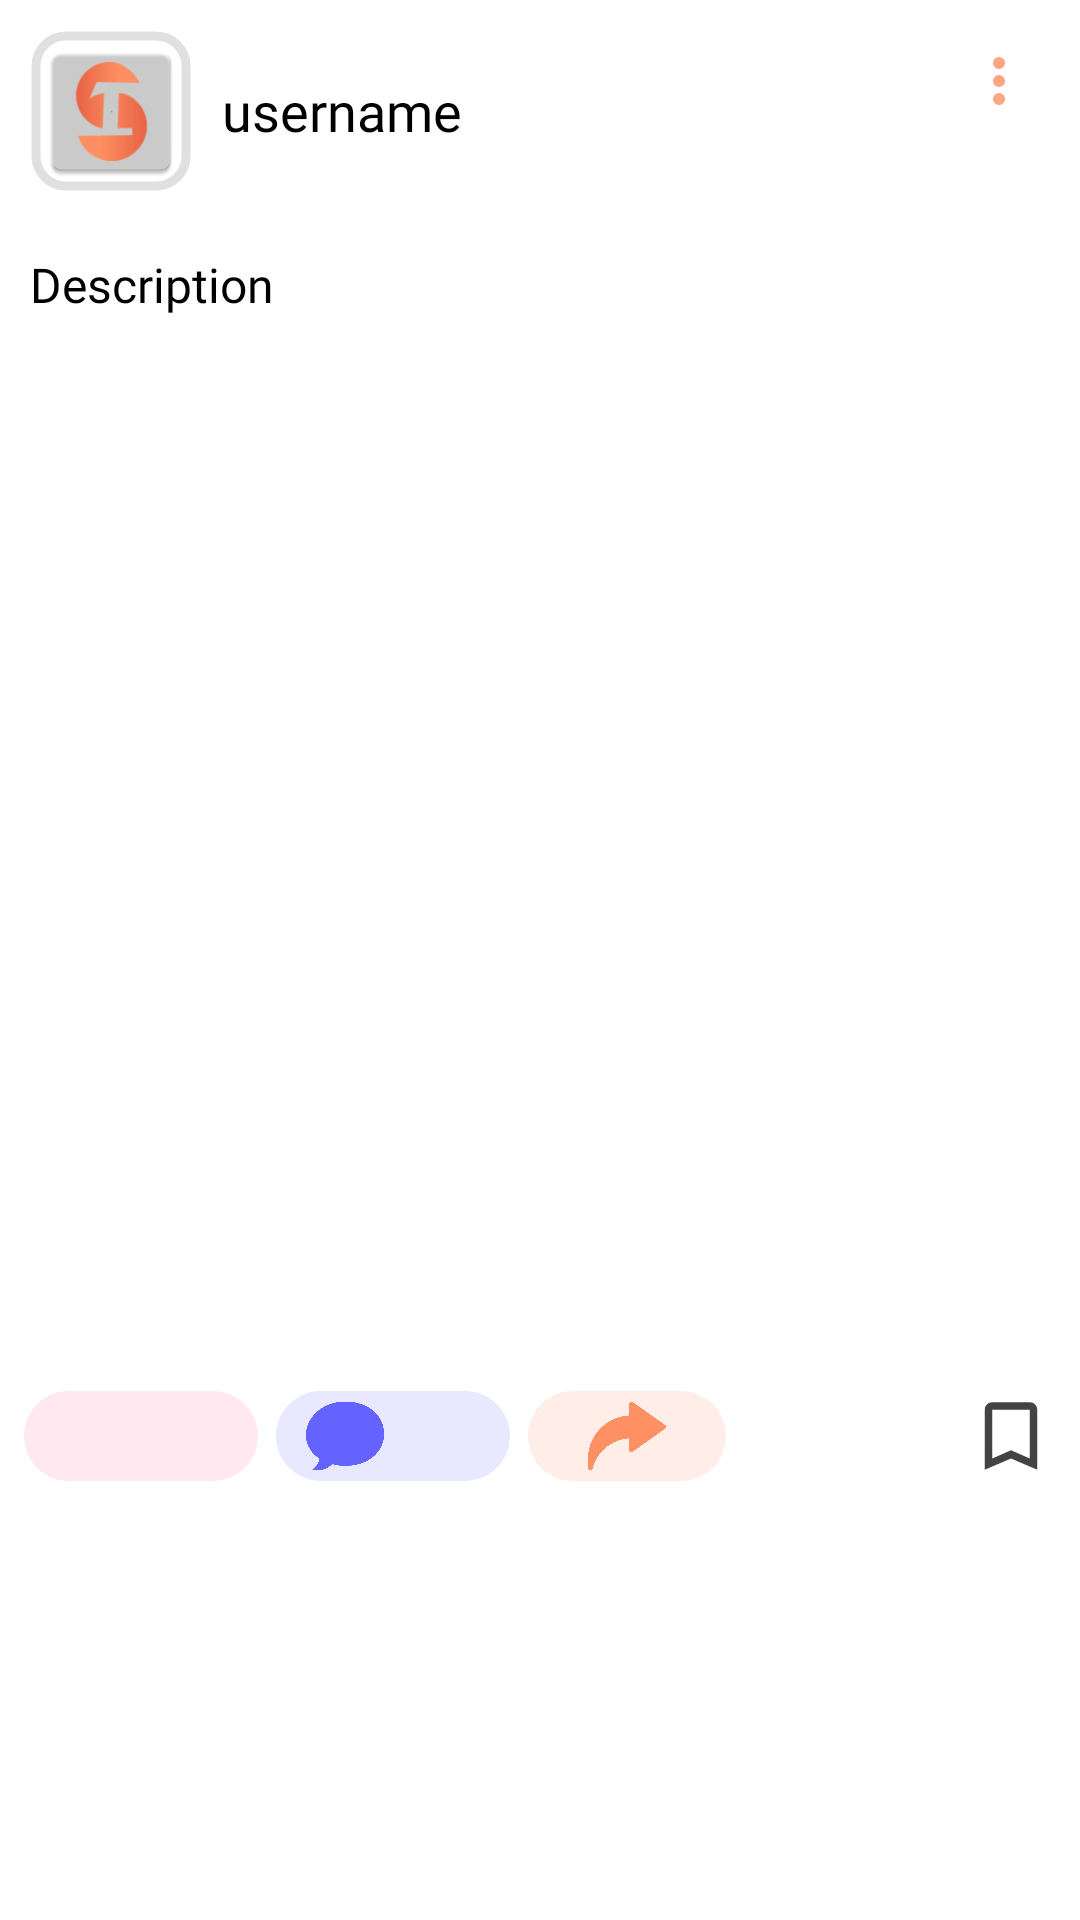

Named icons in this screenshot (1080 × 1920) and their centers, [x,y]:
comment: [345,1436]
more: [999,81]
save: [1011,1436]
share: [627,1436]
